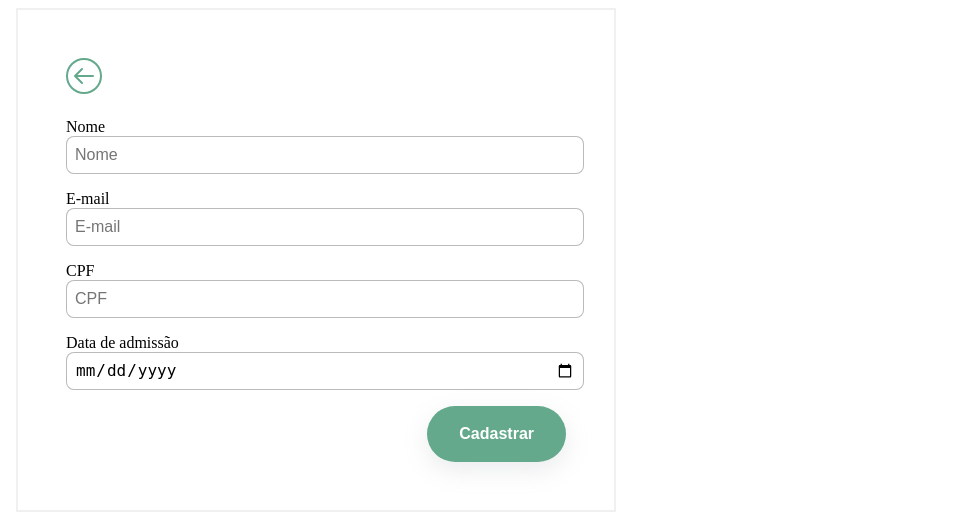
Test case: NewUserPage › should display success notification on successful form submission
Type "John Doe" into the field labelled "Nome" at (325, 155), box left=66, top=136, right=584, bottom=174
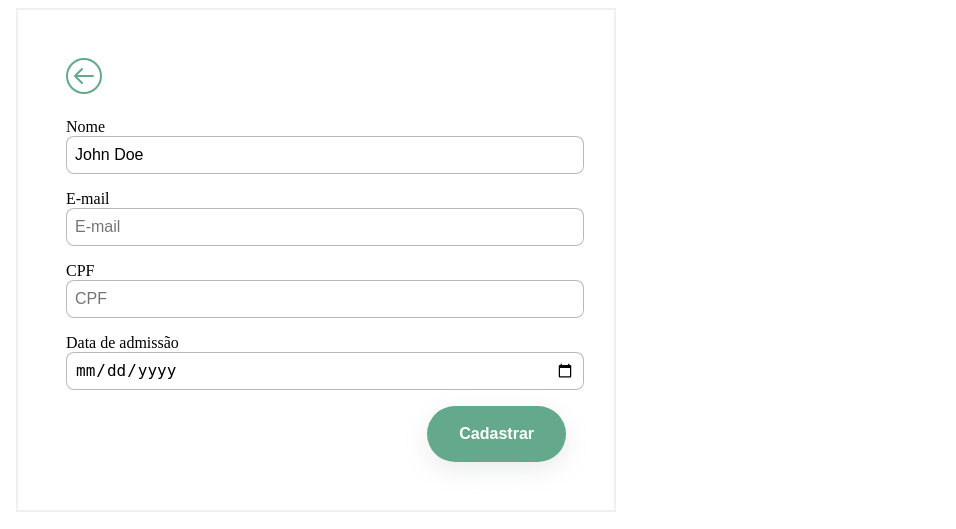
Type "john.doe@example.com" into the field labelled "E-mail" at (325, 227), box left=66, top=208, right=584, bottom=246
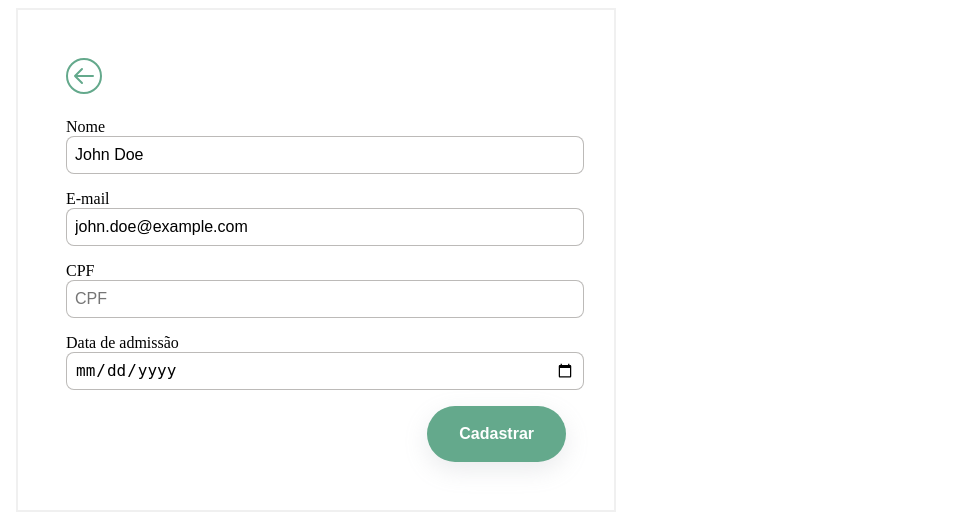
Type "785.022.700-01" into the field labelled "CPF" at (325, 299), box left=66, top=280, right=584, bottom=318
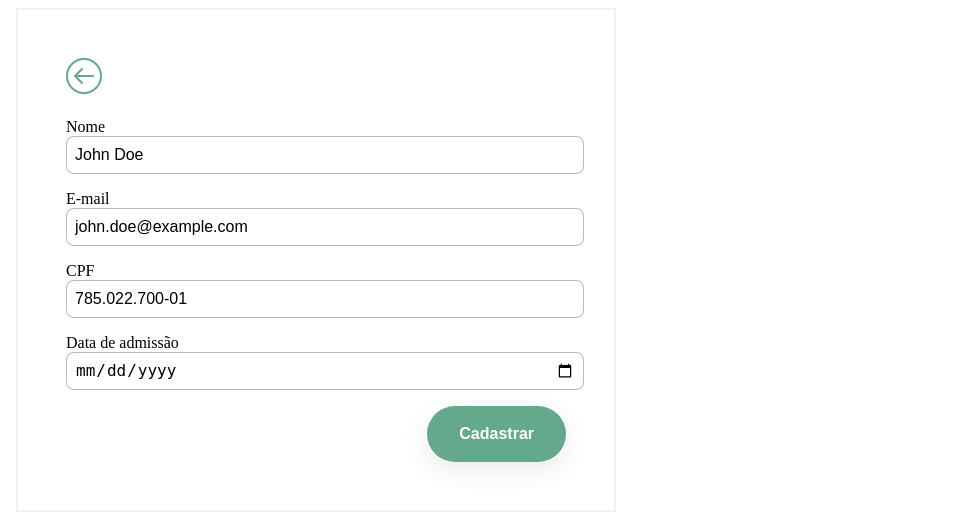
Type "2023-10-22" into the date field labelled "Data de admissão" at (325, 371), box left=66, top=352, right=584, bottom=390
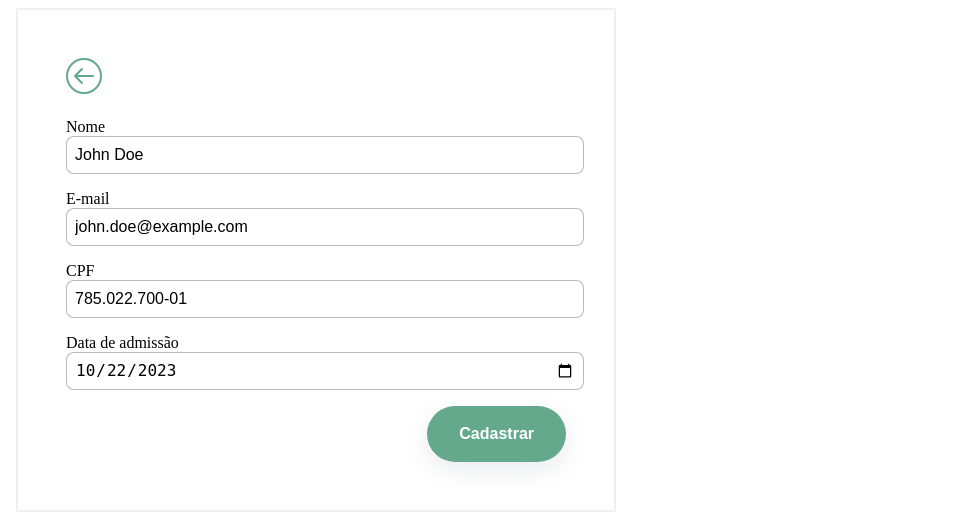
Click the button "Cadastrar" at (497, 434), box left=427, top=406, right=566, bottom=462
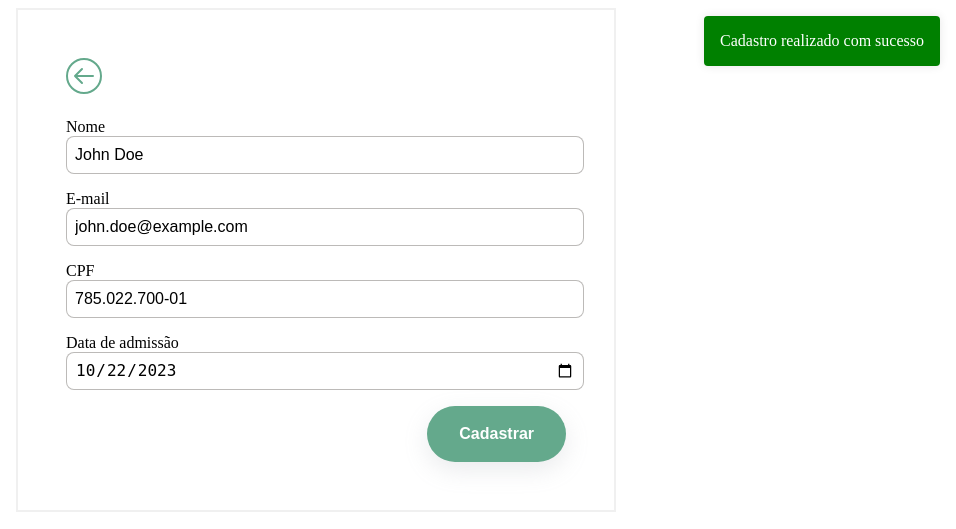
Expected: the text "Cadastro realizado com sucesso" is shown, left=704, top=16, right=940, bottom=66
